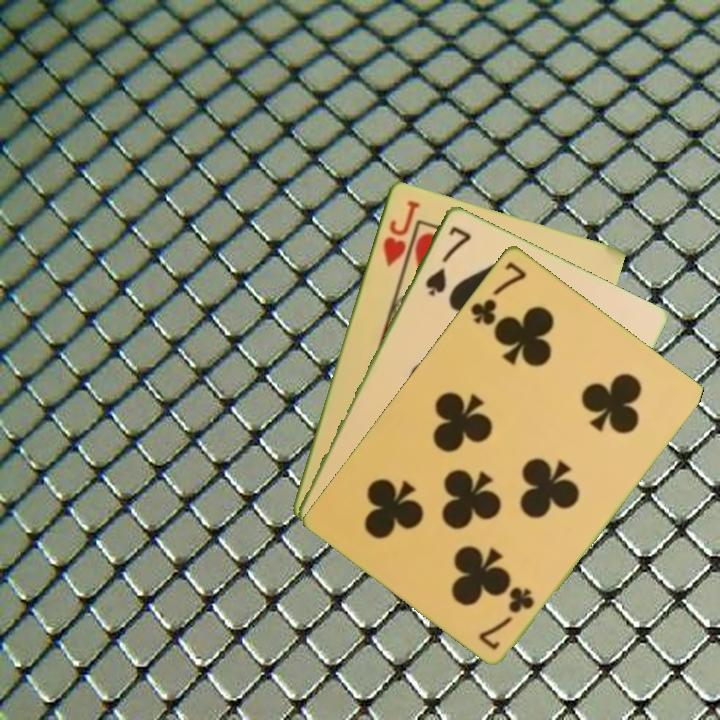7c: (466, 257, 529, 328), (475, 582, 538, 653)
7s: (421, 222, 474, 298)
Jh: (378, 196, 422, 269)
